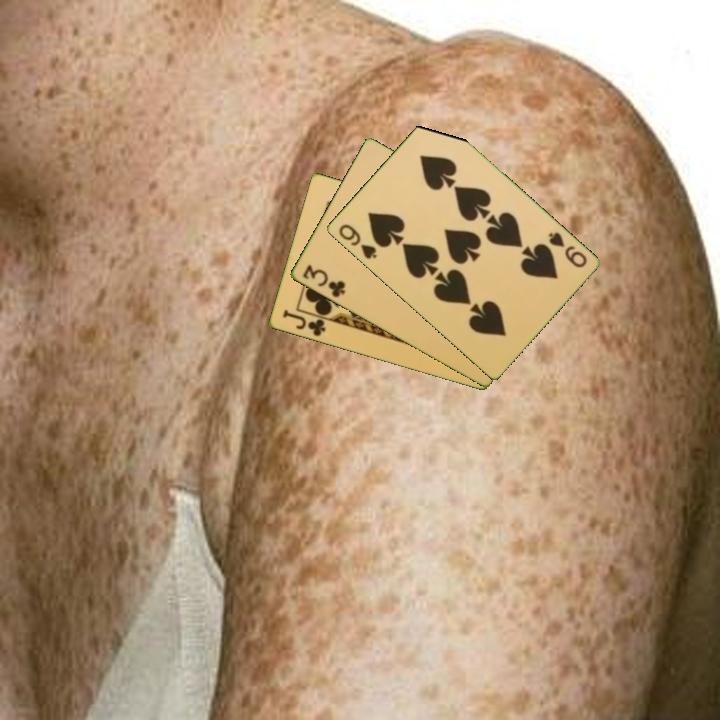3c: (298, 261, 348, 301)
9s: (544, 228, 590, 271), (335, 221, 379, 262)
Jc: (279, 306, 328, 339)
